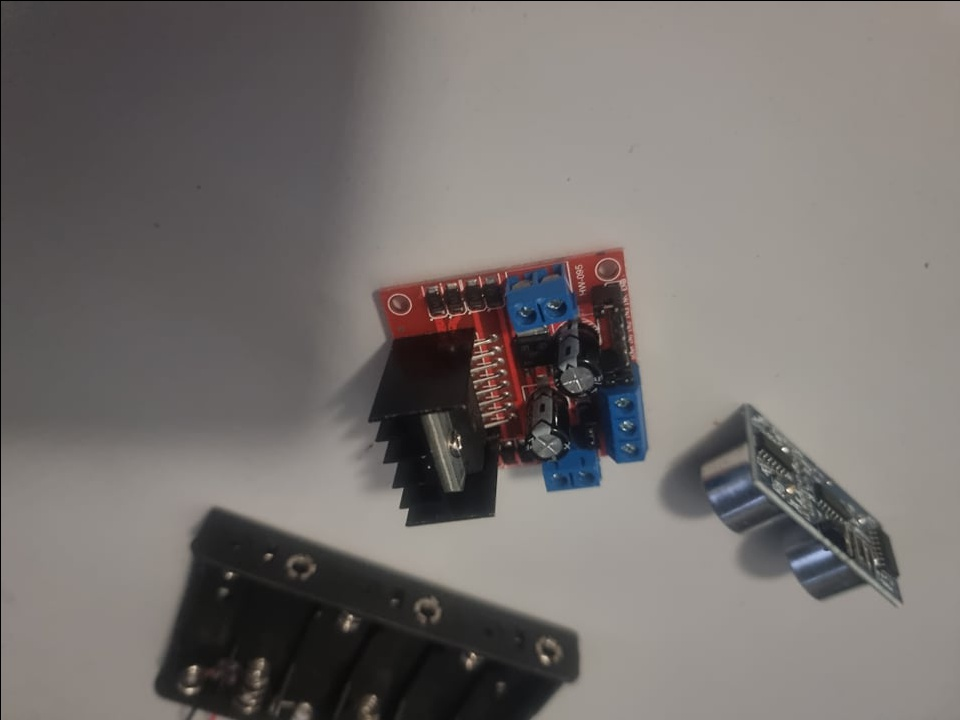BATTERY BOX: (150, 501, 586, 716)
MOTOR: (367, 246, 648, 528)
SENSOR: (701, 401, 900, 607)
